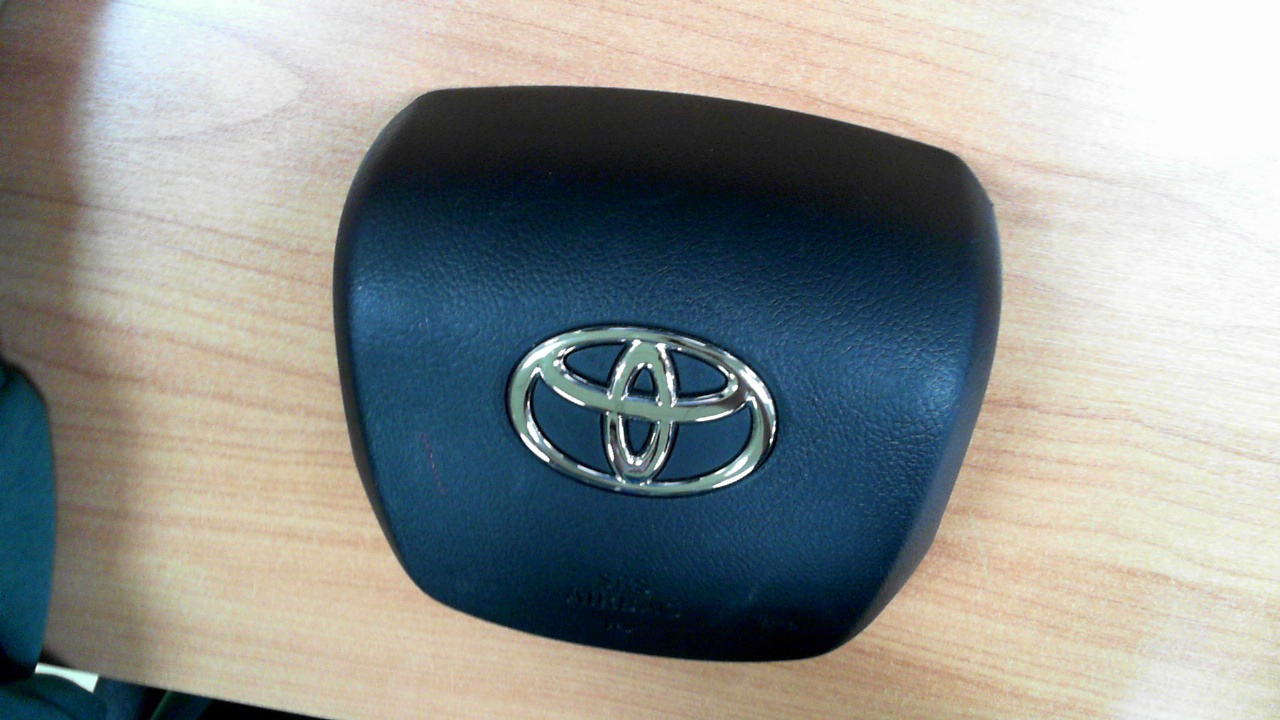Airbag: (331, 84, 1003, 664)
Toyota: (510, 326, 777, 497)
